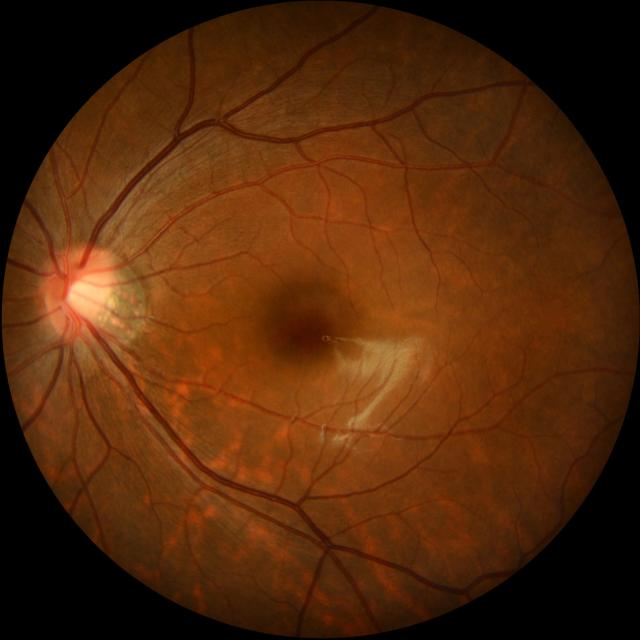OC: (65, 274, 104, 321)
OD: (45, 250, 111, 331)
